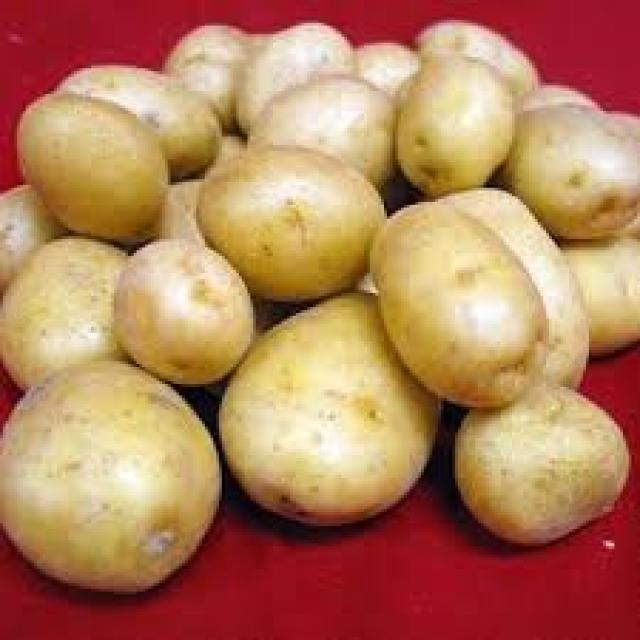Potato: (0, 351, 258, 604), (355, 197, 557, 431), (189, 123, 432, 309), (96, 232, 275, 376)
